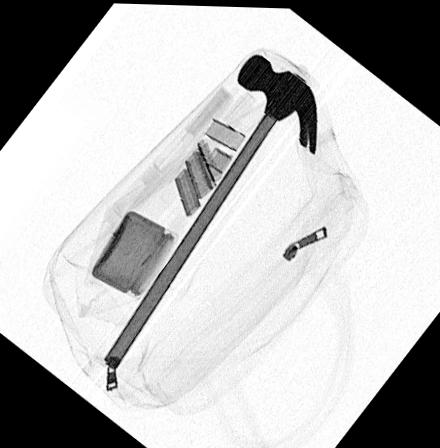Hammer: (99, 51, 319, 372)
